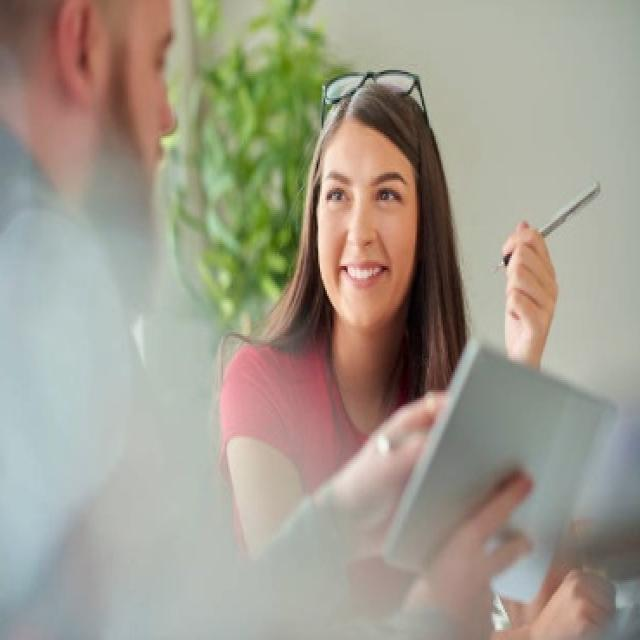adult: (226, 66, 598, 557), (2, 0, 181, 598)
